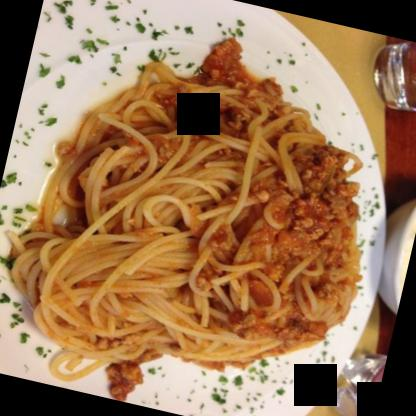pasta: (0, 29, 403, 415)
